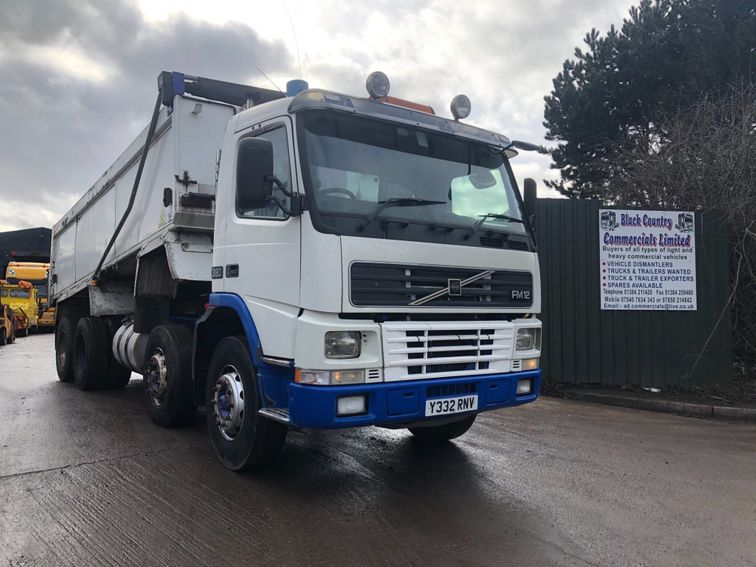Semi: (45, 71, 541, 474)
